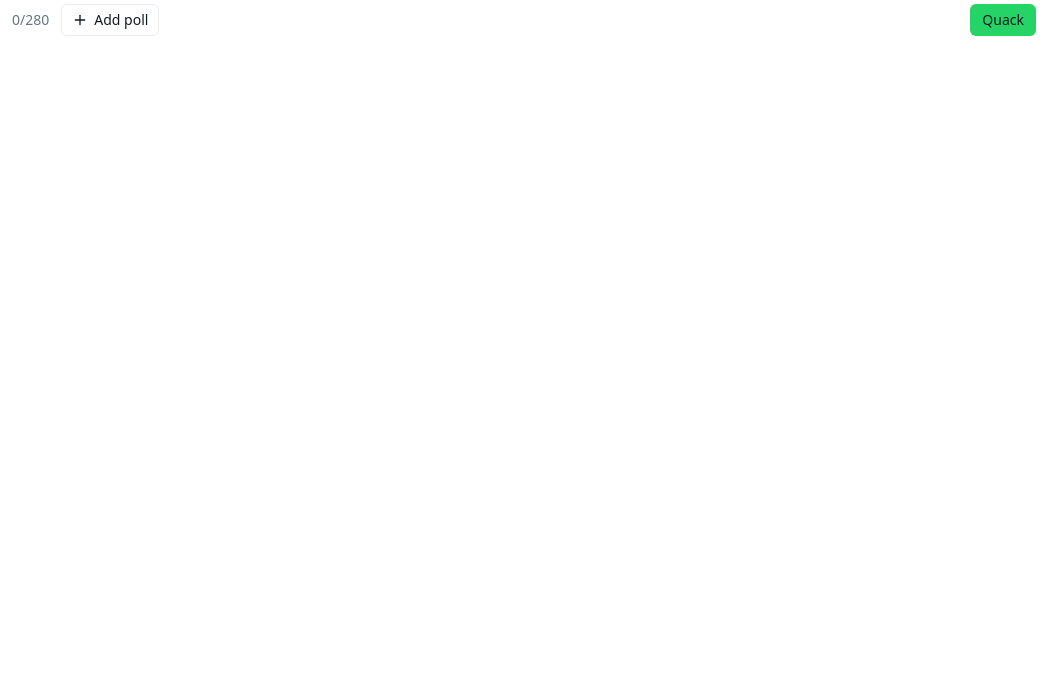
QuackForm › limits a post to three polls
This screenshot has width=1048, height=674.
What coordinates should you click on to do the following:
click the button "Add poll"
I would click on:
 (110, 20)
Its box is [61,4,159,36].
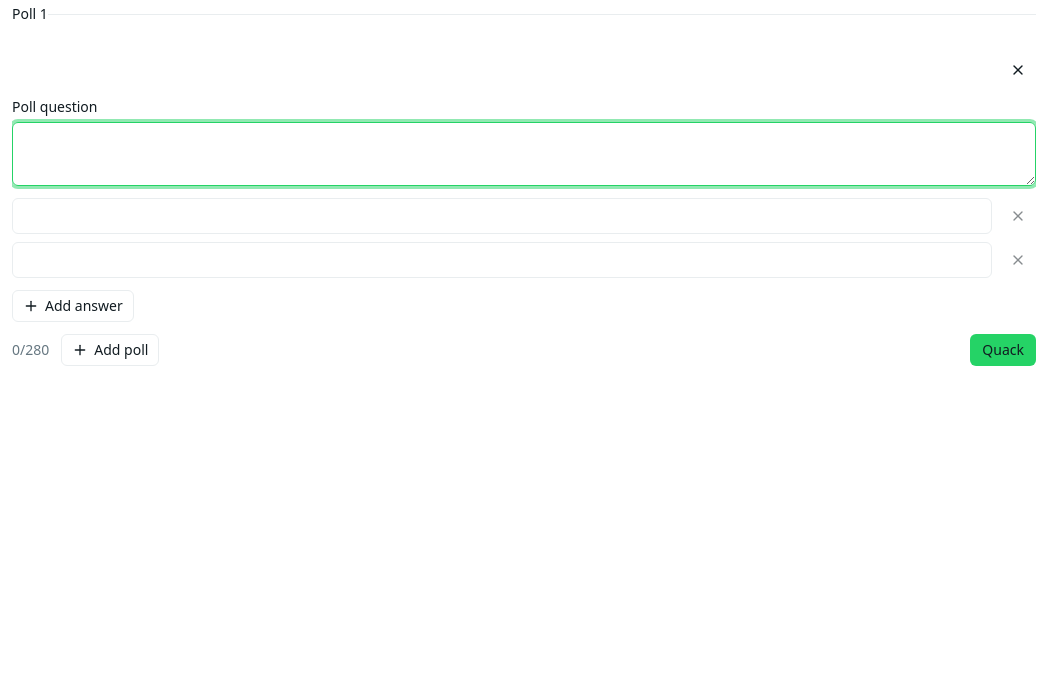
What coordinates should you click on to do the following:
click the button "Add poll"
I would click on:
 (110, 350)
Its box is [61,334,159,366].
(page scrolled)
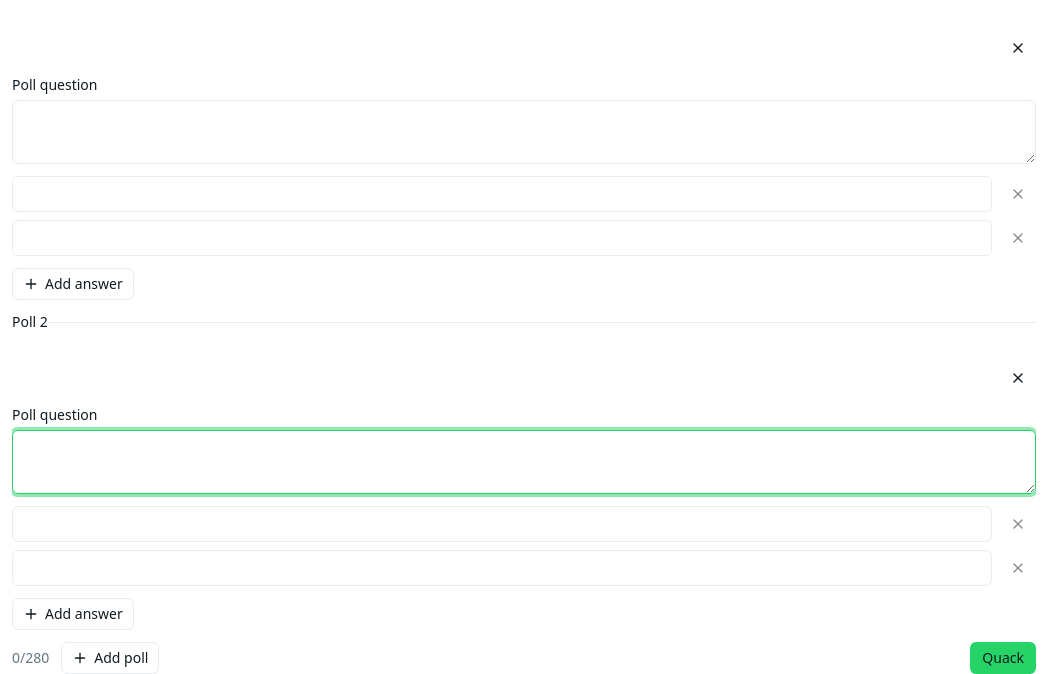
What coordinates should you click on to do the following:
click the button "Add poll"
I would click on:
 (110, 658)
Its box is [61,642,159,673].
(page scrolled)
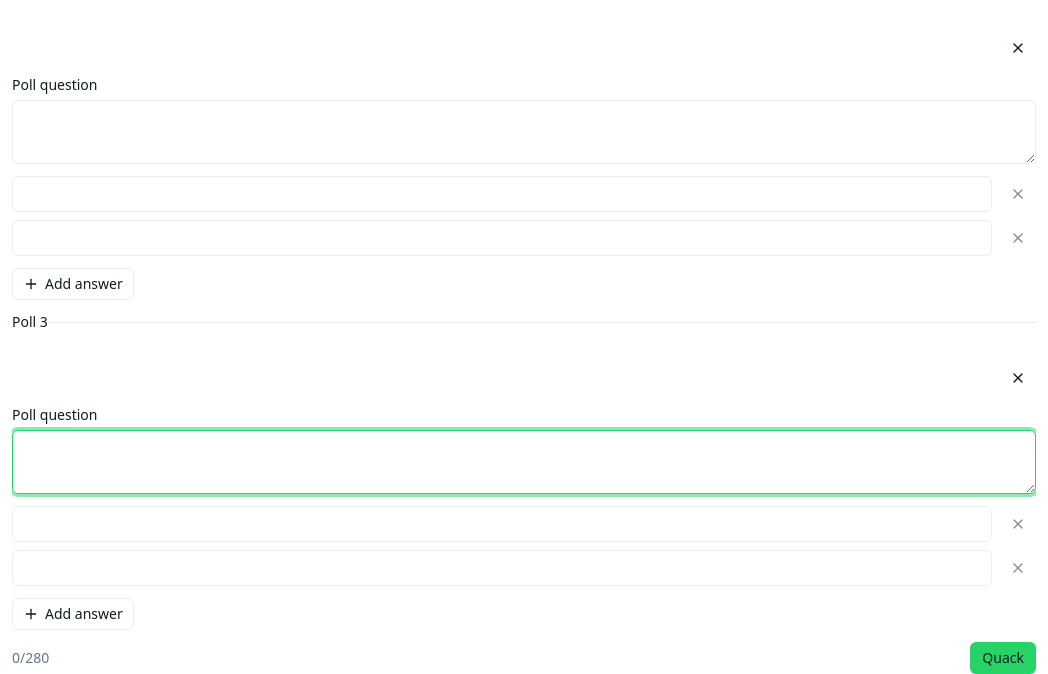
Result: the button "Add poll" is gone
